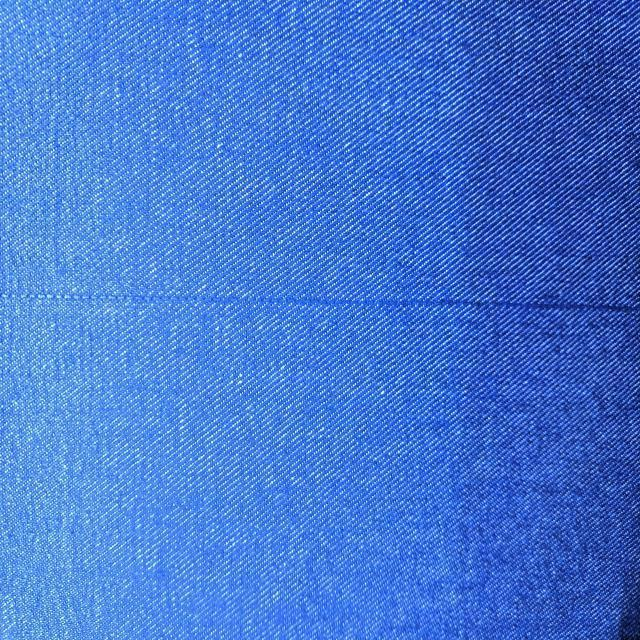Line: (0, 290, 640, 319)
